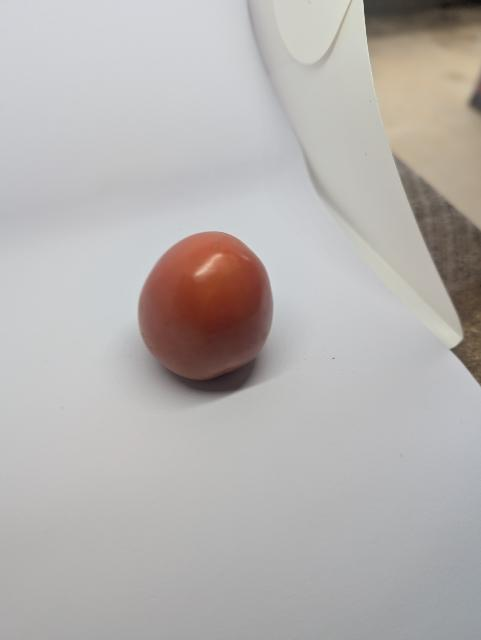red: (126, 224, 284, 390)
